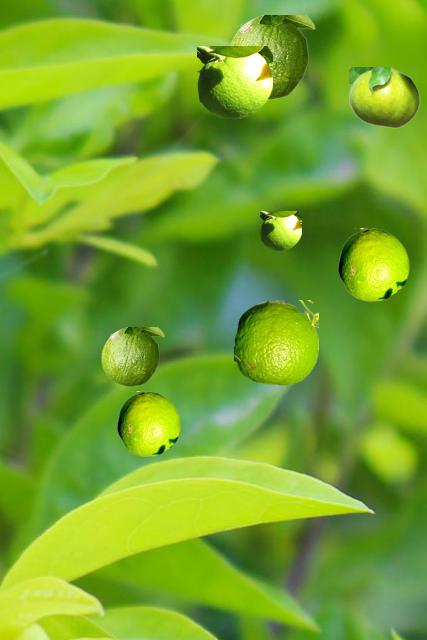dalandan: (229, 15, 314, 98), (234, 300, 317, 384), (197, 46, 271, 117), (338, 228, 408, 300), (349, 67, 419, 127), (117, 391, 179, 455), (101, 327, 163, 385), (260, 211, 300, 249)
